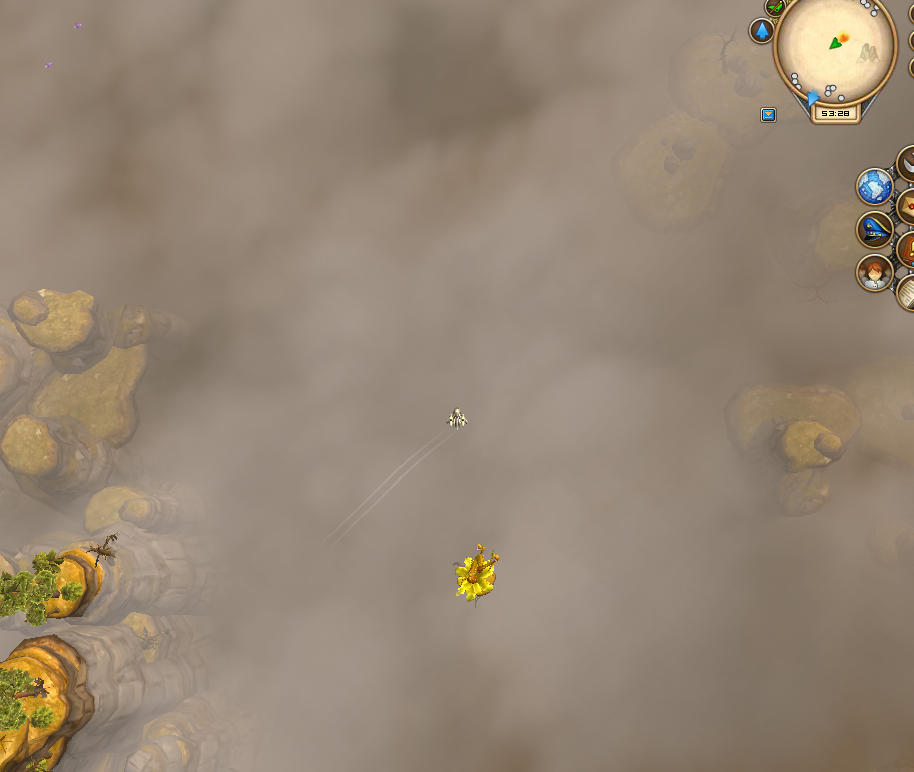dandelion-empty: (450, 541, 500, 604)
